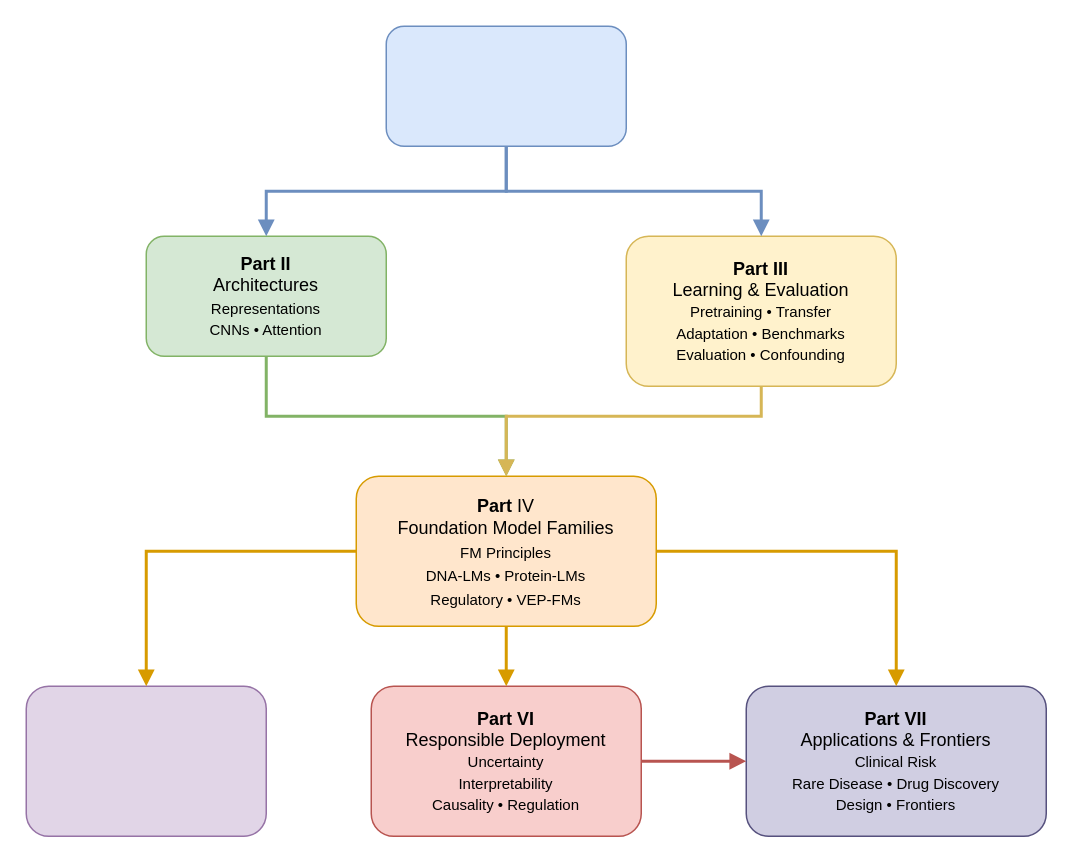
Some shapes in this 1073 by 863 pixel diagram are drawn without their labels. Here are the shapes that lost their labels. From the top down, the box of each, then its label:
(385, 25, 626, 146): Part I Data Foundations NGS • Datasets GWAS • Classical VEP
(25, 685, 266, 836): Part V Cellular Context RNA • Single-Cell 3D Genome • Networks Multi-omics
